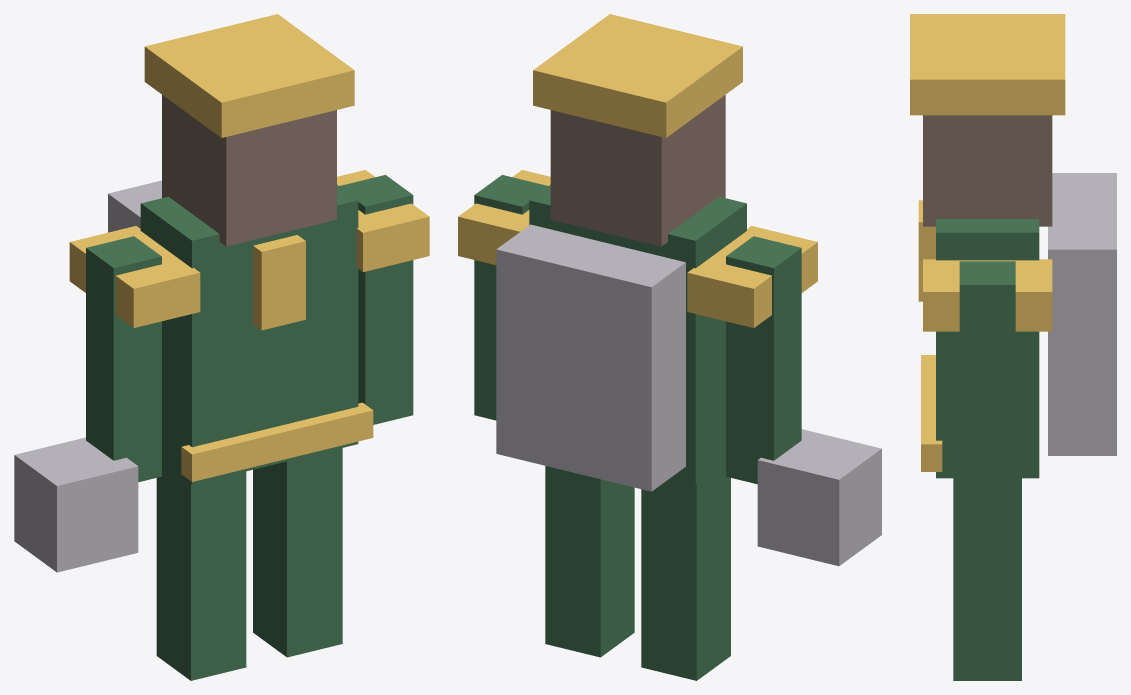
The model's file is 10_luma_dubwater_medic_of_shifting.glb.
3 renders of one model, left to right at view 1: azimuth 30°, elevation 25°; view 2: azimuth 150°, elevation 25°; view 3: azimuth 270°, elevation 25°, orthographic.
Visible parts, largest first — view 1: Luma Dubwater, Medic of Shifting; view 2: Luma Dubwater, Medic of Shifting; view 3: Luma Dubwater, Medic of Shifting.
Part boxes in pixels (x1,y1,x2,y2): Luma Dubwater, Medic of Shifting: [14, 14, 429, 680]; Luma Dubwater, Medic of Shifting: [458, 14, 881, 680]; Luma Dubwater, Medic of Shifting: [910, 14, 1116, 680].
Bounding box in the file's own units: 0.9604 × 1.48 × 0.4633.
